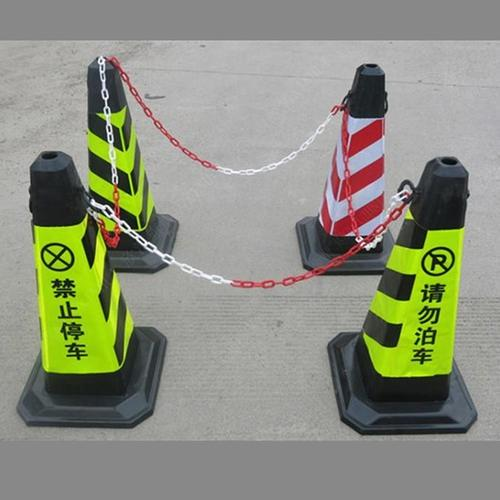cone_barrel: (339, 161, 481, 417), (12, 151, 146, 412), (293, 66, 398, 261), (68, 61, 165, 254)
